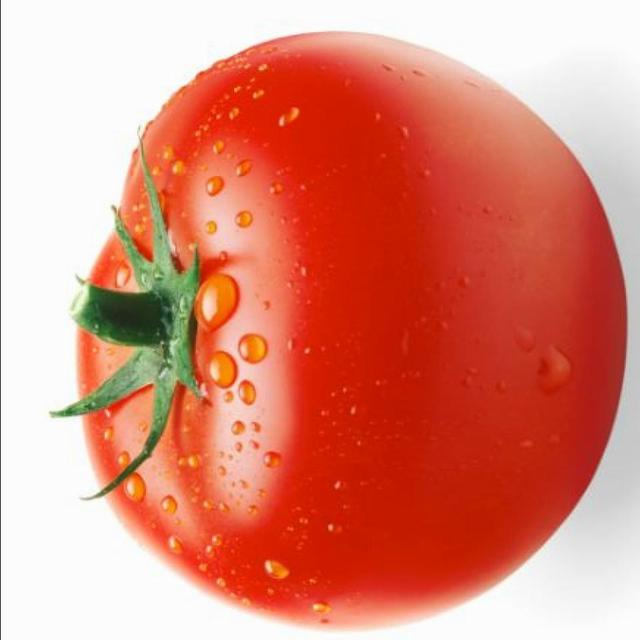Healthy Fruit: (25, 15, 404, 420)
